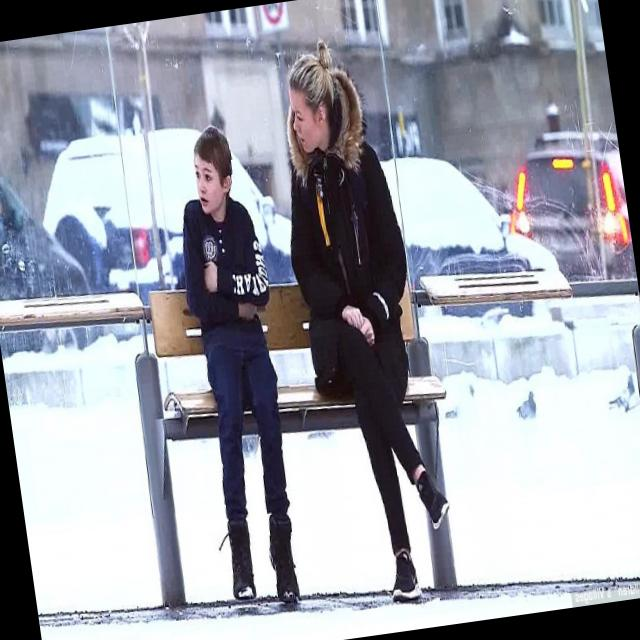Jacket: (273, 115, 427, 422), (167, 197, 281, 352)
